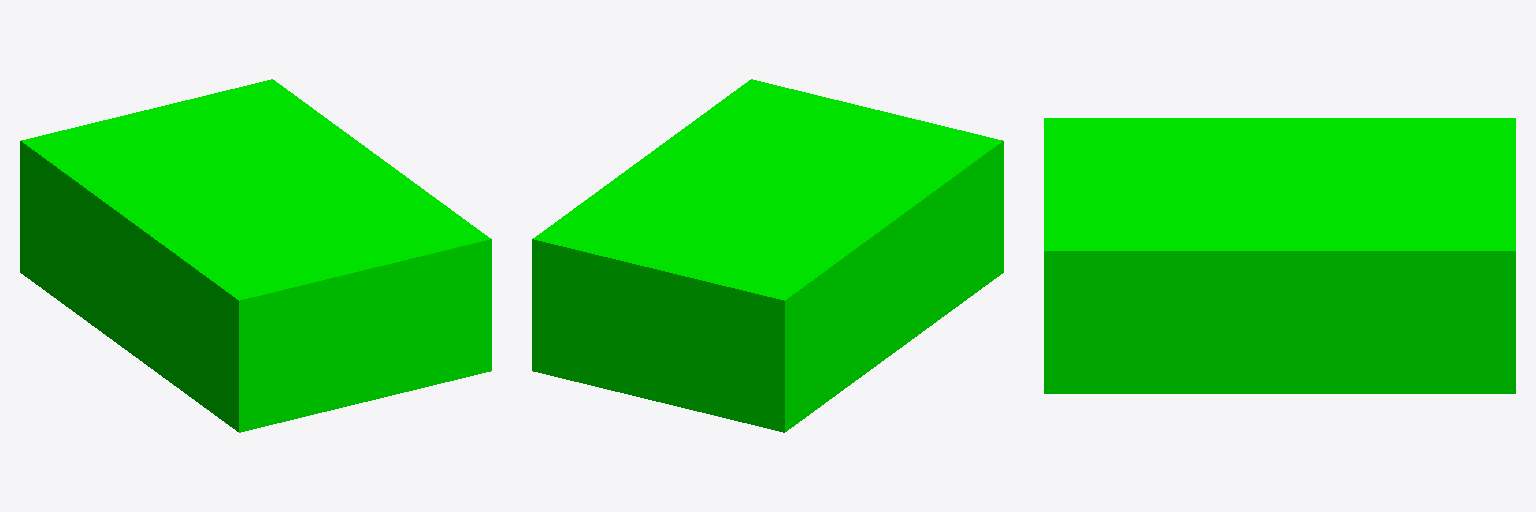
robot.urdf — obstacle:
<?xml version="0.0" ?>
<robot name="obstacle">
    <link name="base_link">
    <contact>
      <lateral_friction value="1"/>
    </contact>
    <inertial>
      <origin rpy="0 0 0" xyz="1.5 0 0"/>
       <mass value="0.01"/>
       <inertia ixx="0" ixy="0" ixz="0" iyy="0" iyz="0" izz="0"/>
    </inertial>
      <visual>
        <origin rpy="0 0 0" xyz="0 0 0"/>
        <geometry>
          <box size="0.1 0.15 0.05" />
        </geometry>
        <material name="green">
        <color rgba="0 1 0 1"/>
      </material>
      </visual>
      <collision>
      <origin rpy="0 0 0" xyz="0 0 0"/>
          <geometry>
            <box size="0.1 0.15 0.05" />
          </geometry>
      </collision>
    </link>
</robot>

--- Facts derived from the render (not from the file) ---
Views: 3 orthographic renders of the robot side by side, from view 1: azimuth 30°, elevation 25°; view 2: azimuth 150°, elevation 25°; view 3: azimuth 270°, elevation 25°.
Robot: obstacle — 1 links, 0 joints (none); root link base_link; default pose: every joint at zero.
Visible links, largest first — view 1: base_link; view 2: base_link; view 3: base_link.
Boxes of the visible links, x1,y1,x2,y2 form: base_link: (20,79,491,432); base_link: (532,79,1003,432); base_link: (1044,118,1515,393).
Size in the robot's own frame: 0.1 by 0.15 by 0.05 metres.
Geometry: primitives only (box / cylinder / sphere), no mesh files.